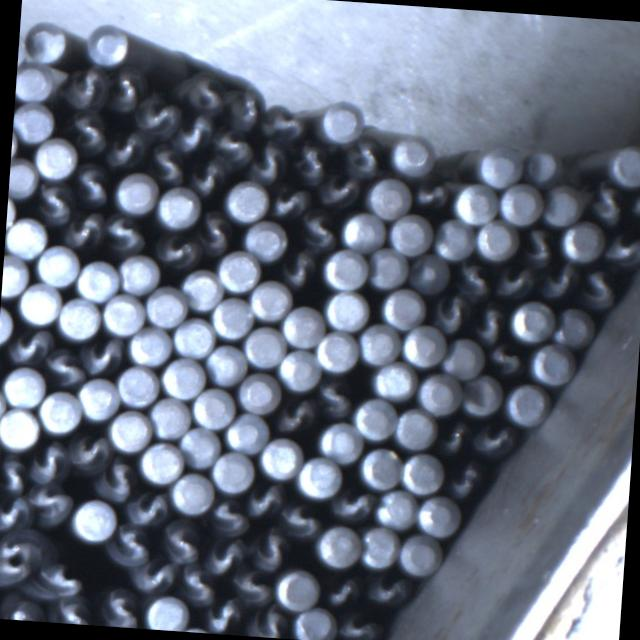tool: (388, 130, 436, 176), (352, 396, 399, 441), (318, 99, 364, 144), (72, 498, 118, 543), (418, 370, 465, 414), (316, 421, 364, 464), (87, 21, 132, 66), (504, 381, 549, 426), (398, 449, 444, 493), (34, 242, 80, 286), (316, 524, 362, 568), (366, 176, 412, 220), (160, 355, 206, 399), (156, 184, 202, 228), (298, 454, 344, 498), (218, 248, 264, 292), (275, 568, 321, 612), (323, 248, 369, 292), (380, 284, 426, 328), (23, 20, 69, 64), (76, 256, 121, 300), (58, 296, 102, 341), (509, 298, 554, 342), (415, 492, 460, 536), (358, 444, 402, 489), (16, 281, 61, 325), (388, 210, 433, 254), (497, 180, 542, 224), (359, 322, 403, 367), (32, 135, 78, 178), (452, 180, 498, 223), (324, 289, 370, 332), (116, 362, 160, 406), (280, 304, 324, 348), (402, 324, 446, 368), (168, 470, 212, 514), (146, 284, 190, 328), (394, 406, 438, 450), (212, 448, 256, 492), (39, 388, 83, 432), (316, 328, 360, 372), (178, 426, 222, 470), (180, 266, 224, 310), (108, 409, 153, 452), (243, 218, 288, 261), (441, 336, 484, 381), (530, 343, 575, 386), (429, 217, 474, 260), (358, 522, 400, 568), (340, 208, 386, 250), (372, 486, 418, 528), (476, 146, 522, 188), (100, 291, 144, 334), (277, 346, 321, 389), (77, 376, 120, 420), (114, 170, 157, 214), (140, 441, 184, 484), (191, 386, 235, 429), (148, 395, 191, 439), (224, 412, 269, 454), (372, 358, 418, 399), (237, 370, 280, 413), (399, 532, 442, 575), (224, 180, 268, 222), (250, 278, 294, 320), (128, 324, 172, 366), (2, 364, 46, 406), (260, 436, 302, 480), (560, 218, 604, 260), (118, 252, 161, 294), (367, 247, 409, 290), (170, 316, 213, 358), (244, 324, 286, 367), (4, 217, 46, 260), (12, 100, 54, 143), (210, 296, 252, 338), (476, 220, 518, 262), (204, 344, 246, 386), (0, 406, 40, 449), (540, 182, 580, 225), (144, 594, 188, 632), (293, 605, 337, 640), (608, 143, 640, 186), (15, 66, 53, 102), (526, 149, 562, 185), (7, 158, 38, 199), (1, 252, 29, 296), (0, 304, 14, 345), (6, 190, 17, 231), (0, 385, 5, 425)
tool_b: (58, 64, 108, 110), (107, 523, 152, 569), (25, 482, 71, 527), (222, 78, 265, 125), (578, 267, 622, 311), (27, 440, 69, 486), (160, 518, 202, 564), (100, 211, 146, 253), (36, 559, 84, 599), (210, 123, 253, 167), (187, 68, 230, 112), (134, 92, 179, 134), (146, 142, 188, 187), (550, 306, 595, 348), (72, 160, 113, 206), (0, 532, 34, 587), (44, 346, 88, 388), (584, 180, 626, 224), (68, 108, 108, 154), (276, 500, 321, 540), (68, 430, 110, 472), (250, 529, 290, 573), (62, 208, 104, 249), (32, 180, 73, 222), (346, 136, 387, 178), (204, 535, 246, 576), (318, 170, 361, 210), (96, 458, 136, 501), (280, 249, 320, 292), (82, 334, 125, 374), (123, 489, 167, 528), (470, 420, 514, 459), (262, 103, 306, 142), (197, 211, 234, 257), (209, 497, 251, 537), (300, 208, 340, 250), (492, 262, 534, 302), (176, 562, 216, 604), (274, 395, 314, 437), (104, 130, 146, 170), (101, 586, 141, 628), (7, 325, 49, 365), (106, 67, 144, 111), (132, 557, 176, 595), (484, 339, 526, 378), (290, 140, 328, 183), (252, 138, 289, 182), (363, 574, 408, 610), (518, 226, 558, 266), (446, 458, 486, 498), (174, 111, 212, 153), (232, 568, 274, 606), (601, 228, 640, 268), (314, 378, 353, 418), (453, 260, 492, 299), (536, 264, 576, 302), (158, 232, 199, 269), (330, 486, 372, 522), (204, 595, 243, 633), (472, 304, 509, 344), (432, 292, 469, 332), (191, 157, 228, 196), (268, 184, 308, 220), (412, 176, 452, 210), (322, 572, 359, 608), (247, 482, 284, 518), (436, 417, 471, 455), (247, 608, 291, 638), (334, 611, 378, 640), (0, 494, 30, 536), (0, 595, 44, 621), (0, 457, 29, 496), (51, 598, 92, 625), (628, 188, 640, 226)
